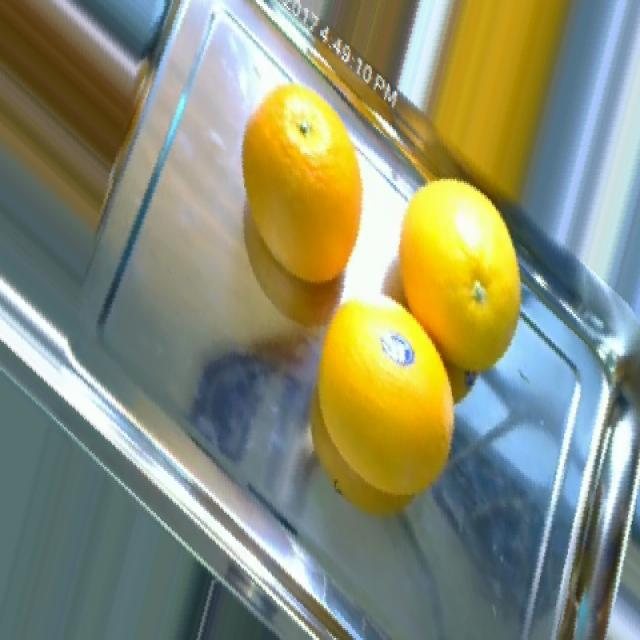Fruit: (287, 348, 480, 544)
